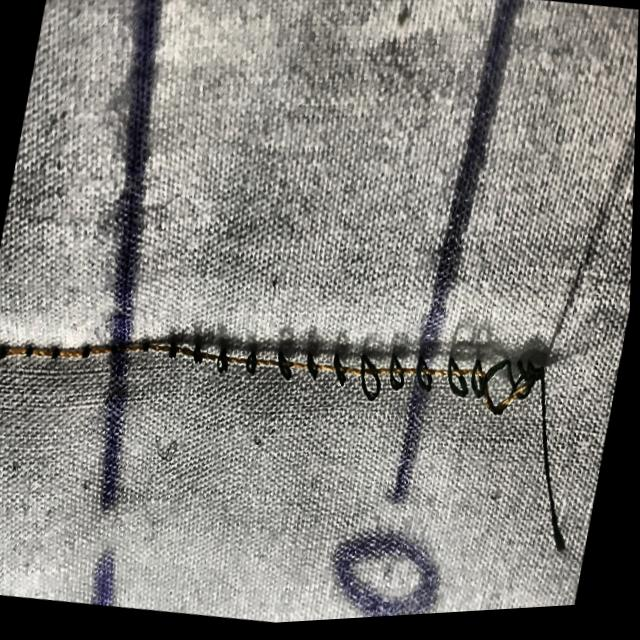Stitch: (131, 282, 612, 597)
